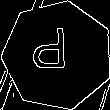P_S: (38, 29, 77, 81)
